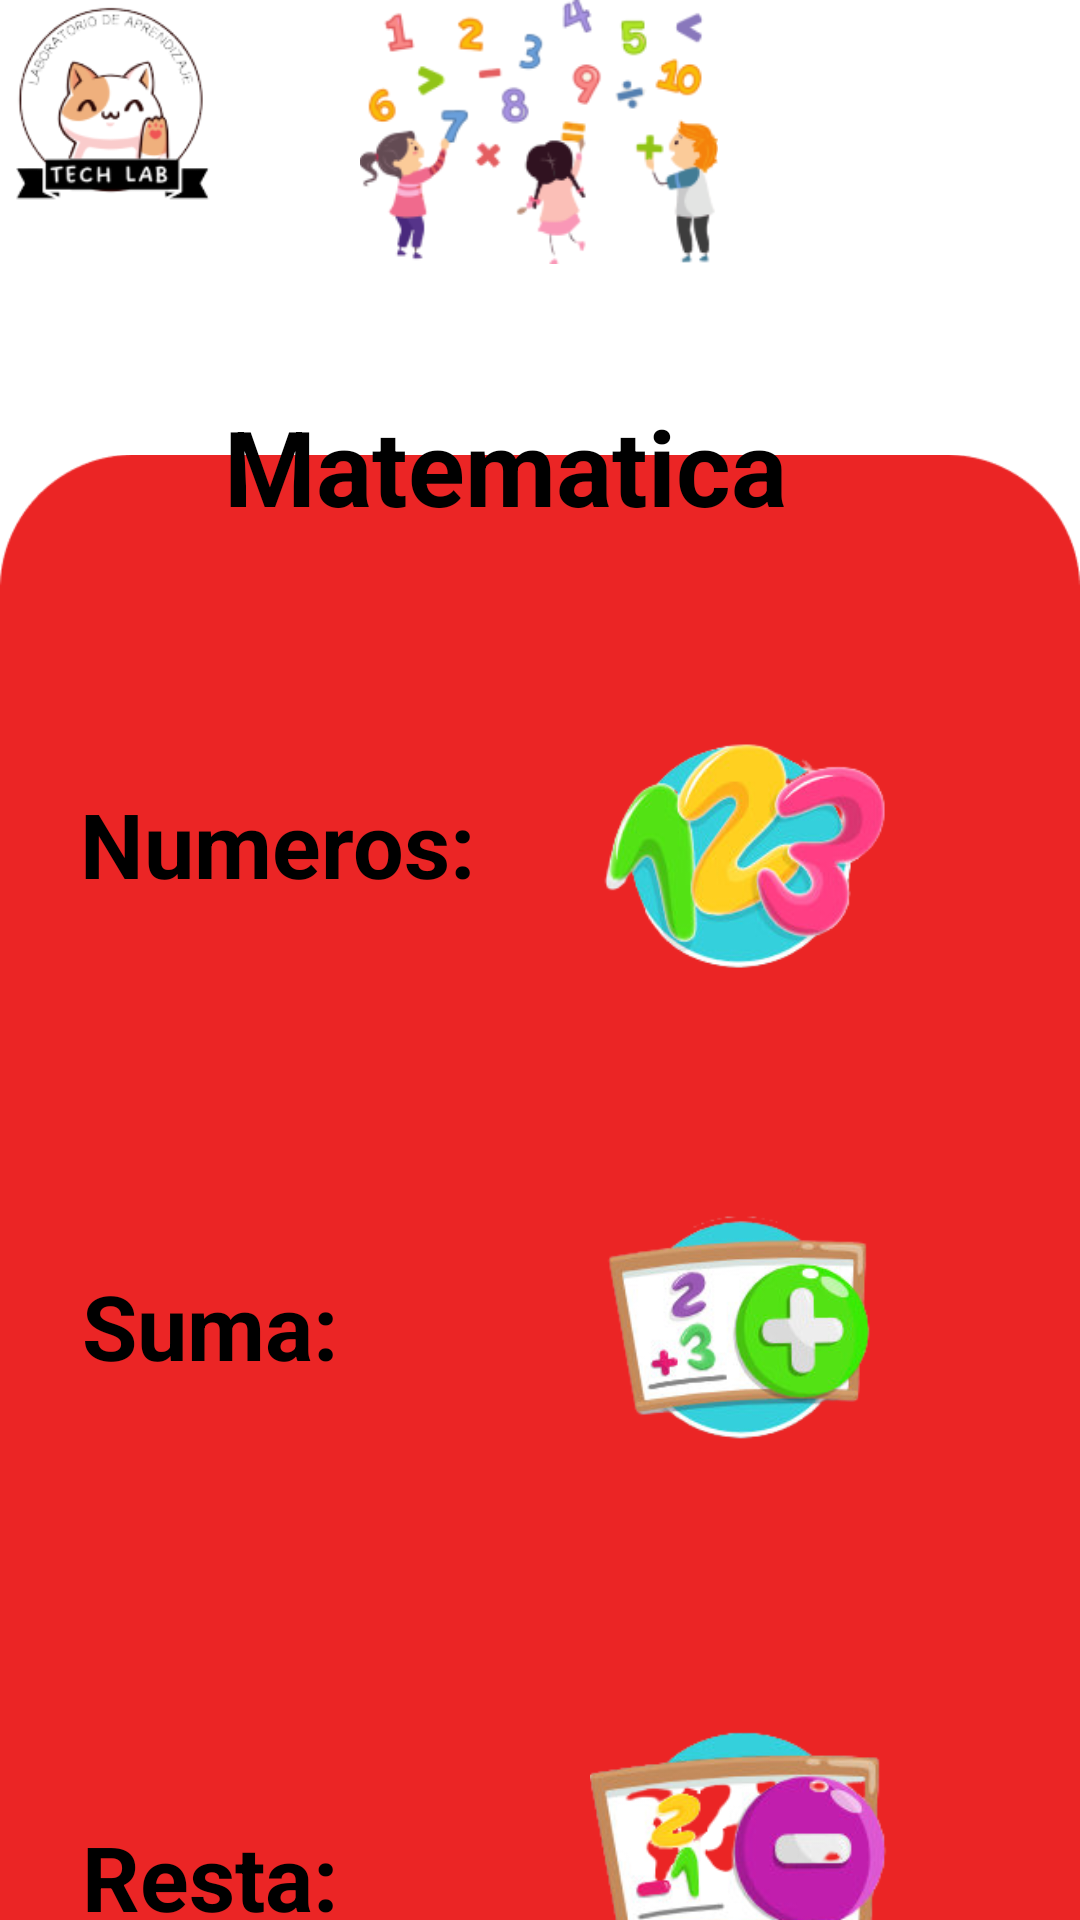

Where icons sit on this 1080 x 1920 app screen, as (x1, y1, x2, y2):
sum: (609, 1216, 870, 1439)
